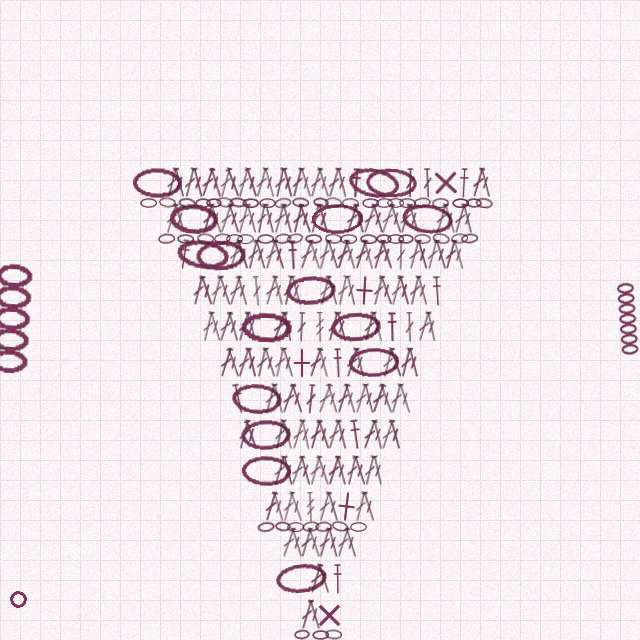chain: (346, 164, 401, 202), (175, 236, 230, 273), (400, 201, 455, 237), (274, 561, 329, 596), (231, 382, 283, 415), (285, 274, 337, 307), (168, 202, 220, 235), (365, 167, 418, 199), (240, 311, 292, 343), (330, 311, 382, 343), (195, 239, 247, 271), (311, 203, 364, 234), (240, 419, 291, 450), (348, 347, 399, 378), (132, 167, 183, 198), (241, 455, 291, 486), (331, 520, 349, 533), (286, 232, 304, 245), (432, 232, 450, 245), (216, 196, 234, 209), (257, 521, 275, 533), (178, 197, 196, 209), (274, 197, 292, 209), (475, 197, 493, 209), (302, 521, 320, 532), (274, 233, 292, 244), (229, 197, 247, 208), (325, 629, 342, 640), (315, 521, 332, 532), (158, 233, 175, 244), (197, 233, 214, 244), (214, 233, 231, 244), (325, 233, 342, 244), (451, 233, 468, 244), (461, 233, 478, 244), (159, 197, 176, 208), (292, 197, 309, 208), (325, 197, 342, 208), (414, 197, 431, 208), (294, 629, 310, 640), (275, 521, 291, 532), (313, 197, 329, 208), (312, 630, 329, 640), (287, 522, 304, 532), (350, 522, 367, 532), (177, 234, 194, 244), (226, 234, 243, 244), (237, 234, 254, 244), (257, 234, 274, 244), (305, 234, 322, 244), (340, 234, 357, 244), (360, 234, 377, 244), (387, 234, 404, 244), (414, 234, 431, 244), (140, 198, 157, 208), (242, 198, 259, 208), (259, 198, 276, 208), (342, 198, 359, 208), (362, 198, 379, 208), (376, 198, 393, 208), (387, 198, 404, 208), (399, 198, 416, 208), (432, 198, 449, 208), (452, 198, 469, 208), (376, 234, 392, 244), (398, 234, 414, 244), (195, 198, 211, 208), (206, 198, 222, 208), (466, 198, 482, 208)
double: (315, 383, 335, 414), (279, 527, 298, 558), (305, 527, 324, 558), (287, 491, 306, 522), (288, 455, 307, 486), (314, 455, 333, 486), (242, 419, 261, 450), (360, 419, 379, 450), (378, 419, 397, 450), (279, 383, 298, 414), (369, 383, 388, 414), (377, 383, 396, 414), (224, 347, 243, 378), (306, 347, 325, 378), (216, 311, 235, 342), (270, 311, 289, 342), (377, 275, 396, 306), (297, 239, 316, 270), (296, 203, 315, 234), (360, 203, 379, 234), (378, 203, 397, 234), (198, 167, 217, 198), (224, 167, 243, 198), (298, 599, 316, 630), (306, 599, 324, 630), (307, 563, 325, 594), (315, 563, 333, 594), (288, 527, 306, 558), (334, 527, 352, 558), (342, 527, 360, 558), (262, 491, 280, 522), (324, 491, 342, 522), (360, 491, 378, 522), (325, 455, 343, 486), (351, 455, 369, 486), (289, 419, 307, 450), (315, 419, 333, 450), (325, 419, 343, 450), (288, 383, 306, 414), (334, 383, 352, 414), (352, 383, 370, 414), (396, 383, 414, 414), (217, 347, 235, 378), (235, 347, 253, 378), (261, 347, 279, 378), (279, 347, 297, 378), (343, 347, 361, 378), (387, 347, 405, 378), (235, 311, 253, 342), (415, 311, 433, 342), (198, 275, 216, 306), (216, 275, 234, 306), (226, 275, 244, 306), (262, 275, 280, 306), (226, 239, 244, 270), (234, 239, 252, 270), (262, 239, 280, 270), (270, 239, 288, 270), (306, 239, 324, 270), (324, 239, 342, 270), (334, 239, 352, 270), (352, 239, 370, 270), (370, 239, 388, 270), (378, 239, 396, 270), (432, 239, 450, 270), (171, 203, 189, 234), (207, 203, 225, 234), (217, 203, 235, 234), (225, 203, 243, 234), (343, 203, 361, 234), (369, 203, 387, 234), (387, 203, 405, 234), (405, 203, 423, 234), (441, 203, 459, 234), (451, 203, 469, 234), (207, 167, 225, 198), (243, 167, 261, 198), (297, 167, 315, 198), (307, 167, 325, 198), (315, 167, 333, 198), (325, 167, 343, 198), (469, 167, 487, 198), (298, 527, 315, 558), (316, 527, 333, 558), (270, 491, 287, 522), (280, 491, 297, 522), (316, 491, 333, 522), (352, 491, 369, 522), (271, 455, 288, 486), (297, 455, 314, 486), (307, 455, 324, 486), (333, 455, 350, 486), (279, 419, 296, 450), (307, 419, 324, 450), (387, 419, 404, 450), (262, 383, 279, 414), (270, 383, 287, 414), (324, 383, 341, 414), (342, 383, 359, 414), (388, 383, 405, 414), (315, 347, 332, 378), (405, 347, 422, 378), (207, 311, 224, 342), (225, 311, 242, 342), (243, 311, 260, 342), (325, 311, 342, 342), (333, 311, 350, 342), (361, 311, 378, 342), (369, 311, 386, 342), (190, 275, 207, 306), (208, 275, 225, 306), (234, 275, 251, 306), (270, 275, 287, 306), (288, 275, 305, 306), (324, 275, 341, 306), (370, 275, 387, 306), (388, 275, 405, 306), (396, 275, 413, 306), (414, 275, 431, 306), (252, 239, 269, 270), (316, 239, 333, 270), (342, 239, 359, 270), (360, 239, 377, 270), (406, 239, 423, 270), (414, 239, 431, 270), (424, 239, 441, 270), (442, 239, 459, 270), (450, 239, 467, 270), (163, 203, 180, 234), (235, 203, 252, 234), (243, 203, 260, 234), (261, 203, 278, 234), (271, 203, 288, 234), (279, 203, 296, 234), (315, 203, 332, 234), (351, 203, 368, 234), (397, 203, 414, 234), (433, 203, 450, 234), (459, 203, 476, 234), (171, 167, 188, 198), (217, 167, 234, 198), (235, 167, 252, 198), (253, 167, 270, 198), (261, 167, 278, 198), (289, 167, 306, 198), (477, 167, 494, 198), (325, 527, 341, 558), (280, 455, 296, 486), (344, 455, 360, 486), (362, 455, 378, 486), (370, 455, 386, 486), (236, 419, 252, 450), (272, 419, 288, 450), (334, 419, 350, 450), (370, 419, 386, 450), (361, 383, 377, 414), (244, 347, 260, 378), (254, 347, 270, 378), (272, 347, 288, 378), (352, 347, 368, 378), (380, 347, 396, 378), (398, 347, 414, 378), (200, 311, 216, 342), (317, 275, 333, 306), (335, 275, 351, 306), (343, 275, 359, 306), (407, 275, 423, 306), (245, 239, 261, 270), (200, 203, 216, 234), (290, 203, 306, 234), (164, 167, 180, 198), (182, 167, 198, 198), (190, 167, 206, 198), (272, 167, 288, 198), (280, 167, 296, 198), (334, 167, 350, 198), (298, 419, 313, 450), (280, 311, 295, 342), (424, 311, 439, 342), (281, 275, 296, 306), (254, 203, 269, 234), (308, 203, 323, 234), (305, 384, 317, 414), (251, 276, 263, 306), (296, 312, 307, 342), (404, 312, 415, 342), (422, 168, 433, 198), (396, 240, 406, 270), (405, 168, 415, 198)
enseble_chain: (0, 262, 37, 377), (615, 282, 640, 357)
half_double: (230, 383, 247, 414), (348, 419, 363, 450), (177, 239, 192, 270), (349, 168, 363, 198), (332, 348, 344, 378), (386, 312, 398, 342), (431, 276, 443, 306), (287, 240, 299, 270), (458, 168, 470, 198), (332, 564, 343, 594)
noise: (8, 589, 29, 610)
single: (330, 490, 363, 523), (349, 275, 380, 306), (430, 167, 461, 198), (314, 600, 344, 630), (287, 348, 317, 378)
treble: (305, 492, 316, 522), (315, 312, 325, 342)
